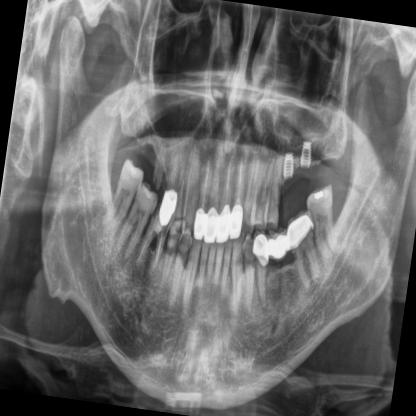Bicon: (296, 135, 314, 176), (279, 148, 297, 181)
